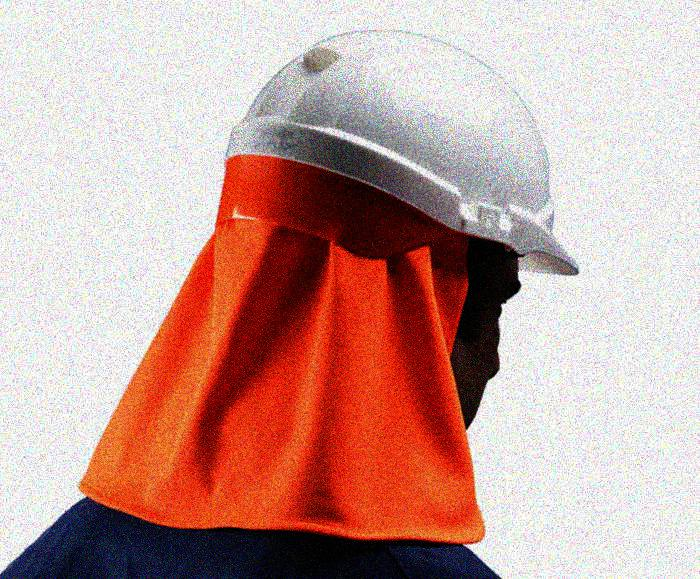helmet: (195, 23, 579, 437)
